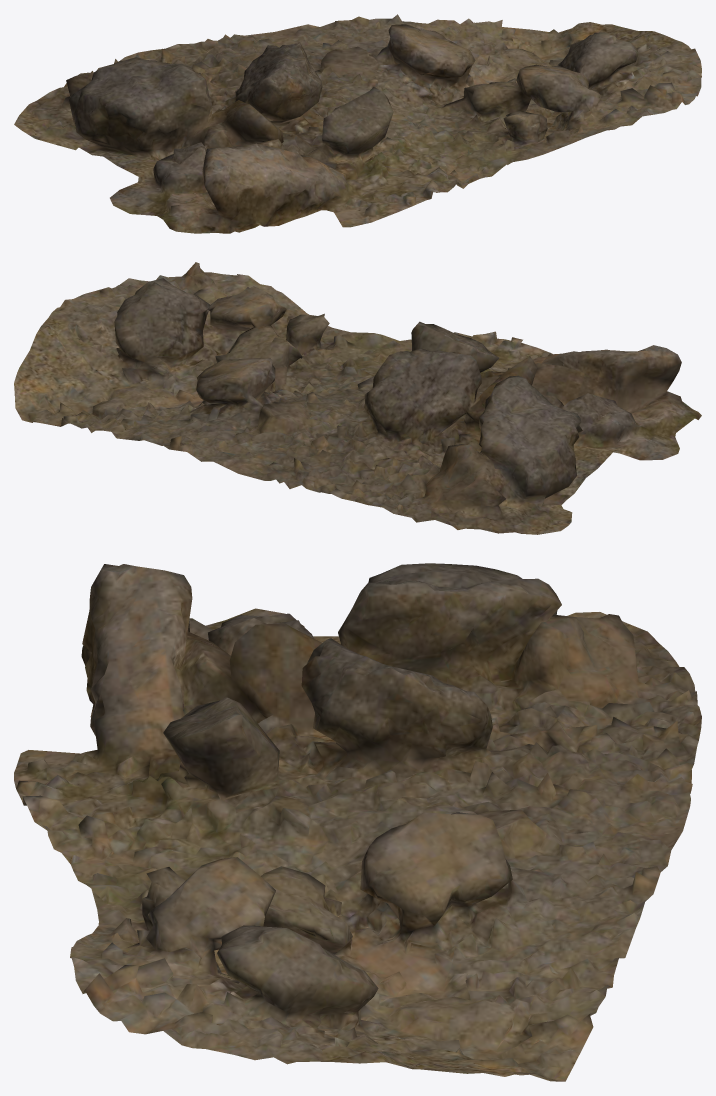
File: coast_land_rocks_03.glb
3 views of the same model, one above another, from view 1: azimuth 30°, elevation 25°; view 2: azimuth 150°, elevation 25°; view 3: azimuth 270°, elevation 25° (orthographic). The views are drawn at different scales.
Parts seen in each view (by area): view 1: coast_land_rocks_03_lo; view 2: coast_land_rocks_03_lo; view 3: coast_land_rocks_03_lo.
Boxes of the visible parts, x1,y1,x2,y2 form: coast_land_rocks_03_lo: (14,14,701,233); coast_land_rocks_03_lo: (14,262,701,534); coast_land_rocks_03_lo: (14,563,701,1081).
Size of the model in its own units: 8.98 by 1.51 by 5.62.
Materials: 1 (1 with a texture image).
